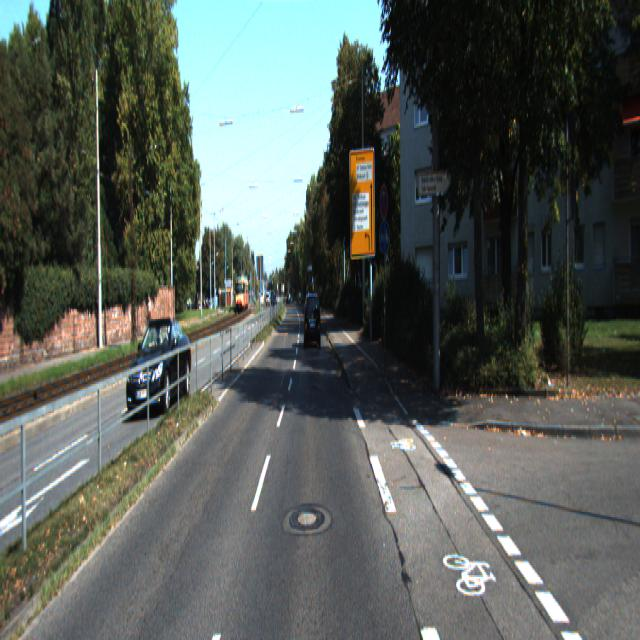Car: (126, 315, 194, 414), (304, 293, 322, 349), (235, 278, 249, 314)
